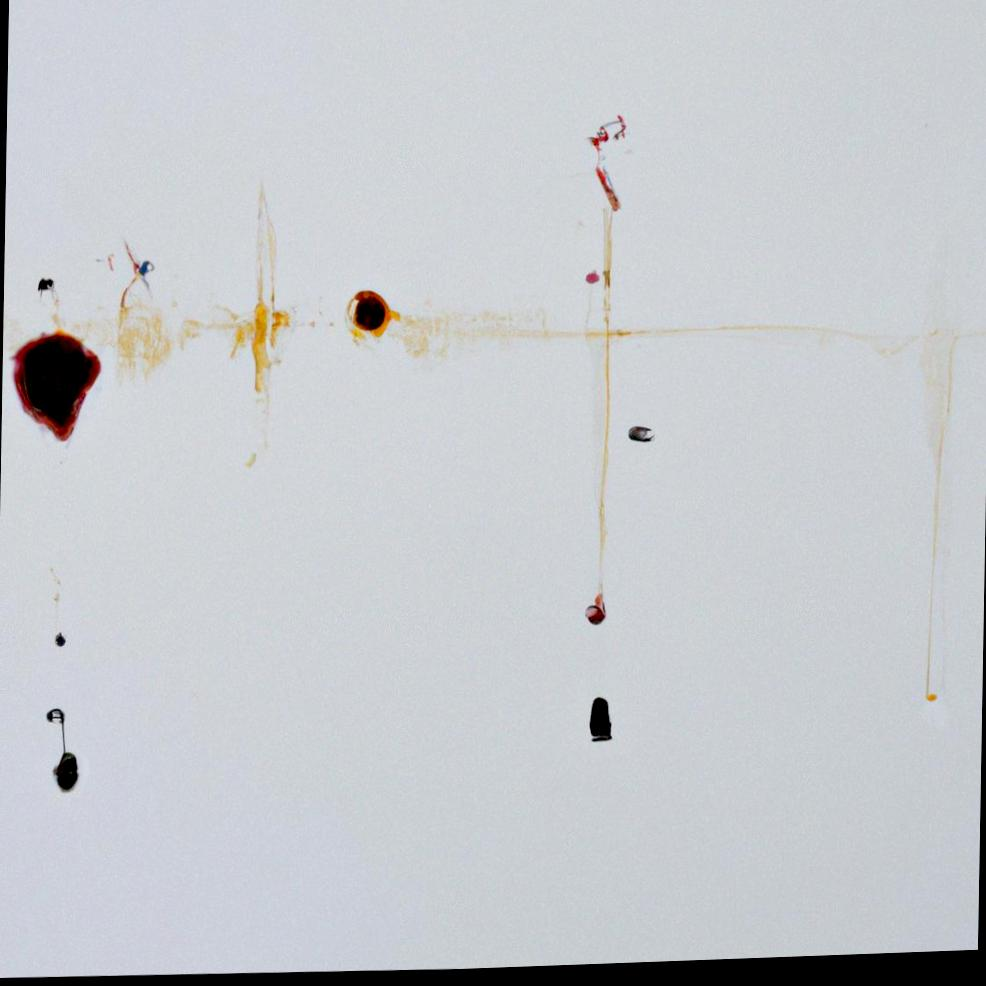Fire: (9, 328, 101, 441)
